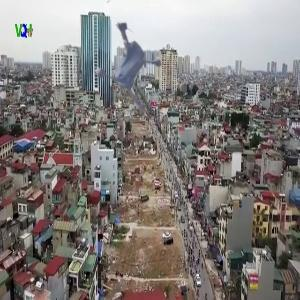drone: (73, 6, 174, 107)
